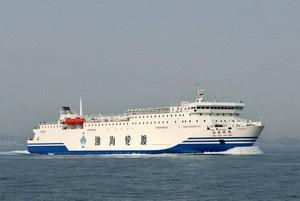youlun: (27, 91, 264, 153)
